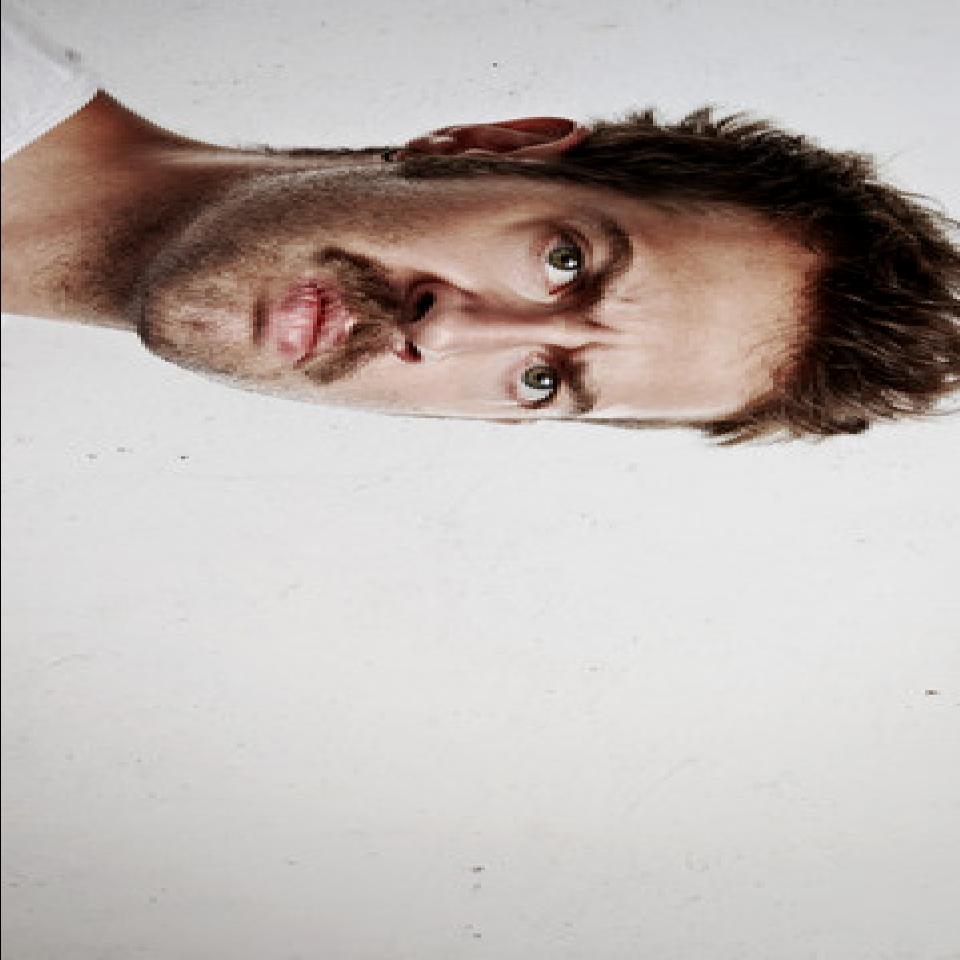Anger: (131, 158, 807, 426)
